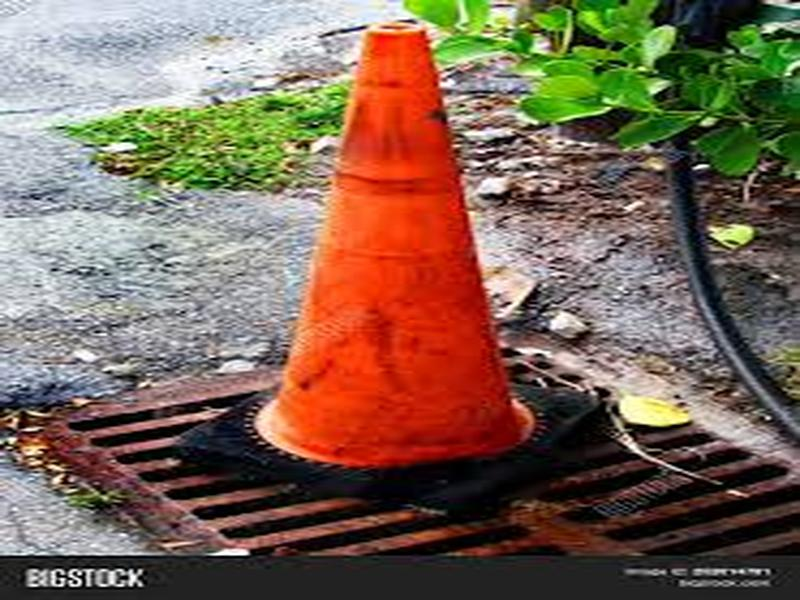Cone1: (174, 22, 606, 525)
